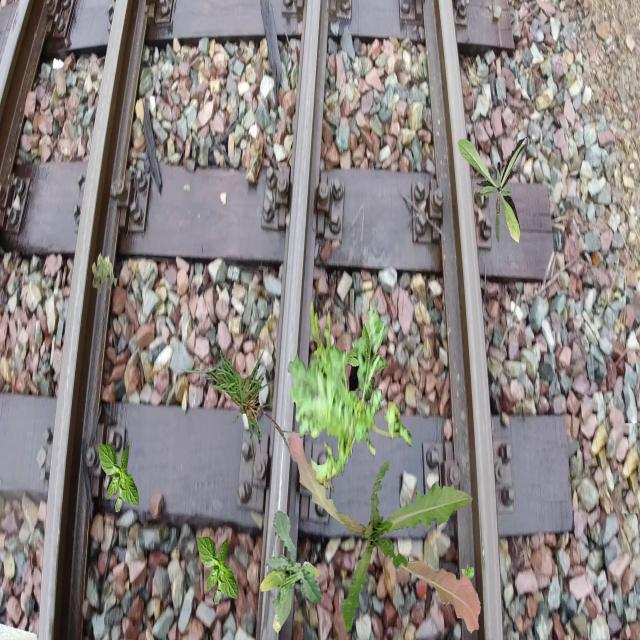Plant: (288, 431, 480, 634), (288, 297, 413, 493), (172, 347, 316, 466), (458, 136, 530, 244), (260, 509, 322, 634), (347, 321, 389, 401), (98, 442, 140, 513), (197, 534, 238, 605), (92, 253, 118, 296), (457, 565, 474, 597)
